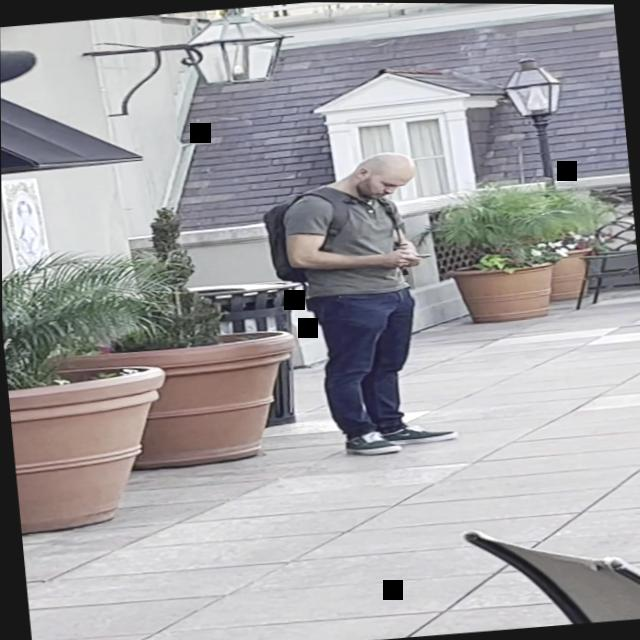NO-Mask: (357, 169, 414, 200)
